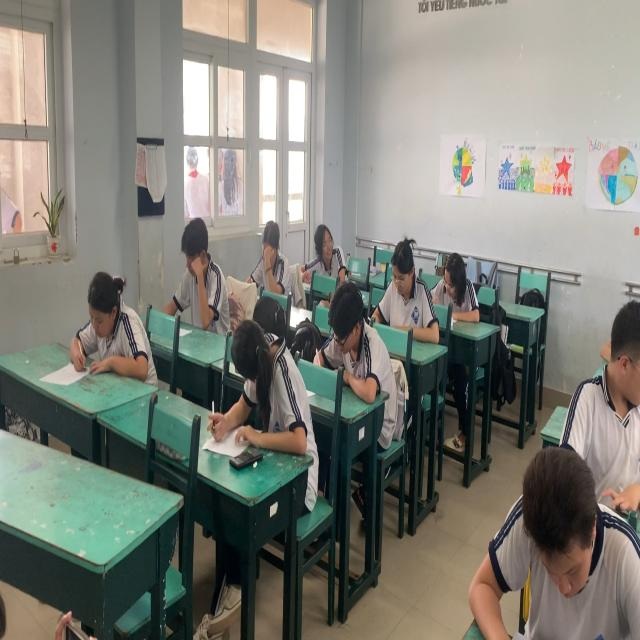cheating: (228, 315, 314, 492), (303, 194, 344, 292)
not_cheating: (472, 431, 627, 640), (560, 268, 640, 497), (66, 255, 160, 407), (317, 258, 391, 424), (372, 212, 432, 352), (165, 195, 219, 338), (248, 194, 292, 313), (436, 222, 468, 329)
